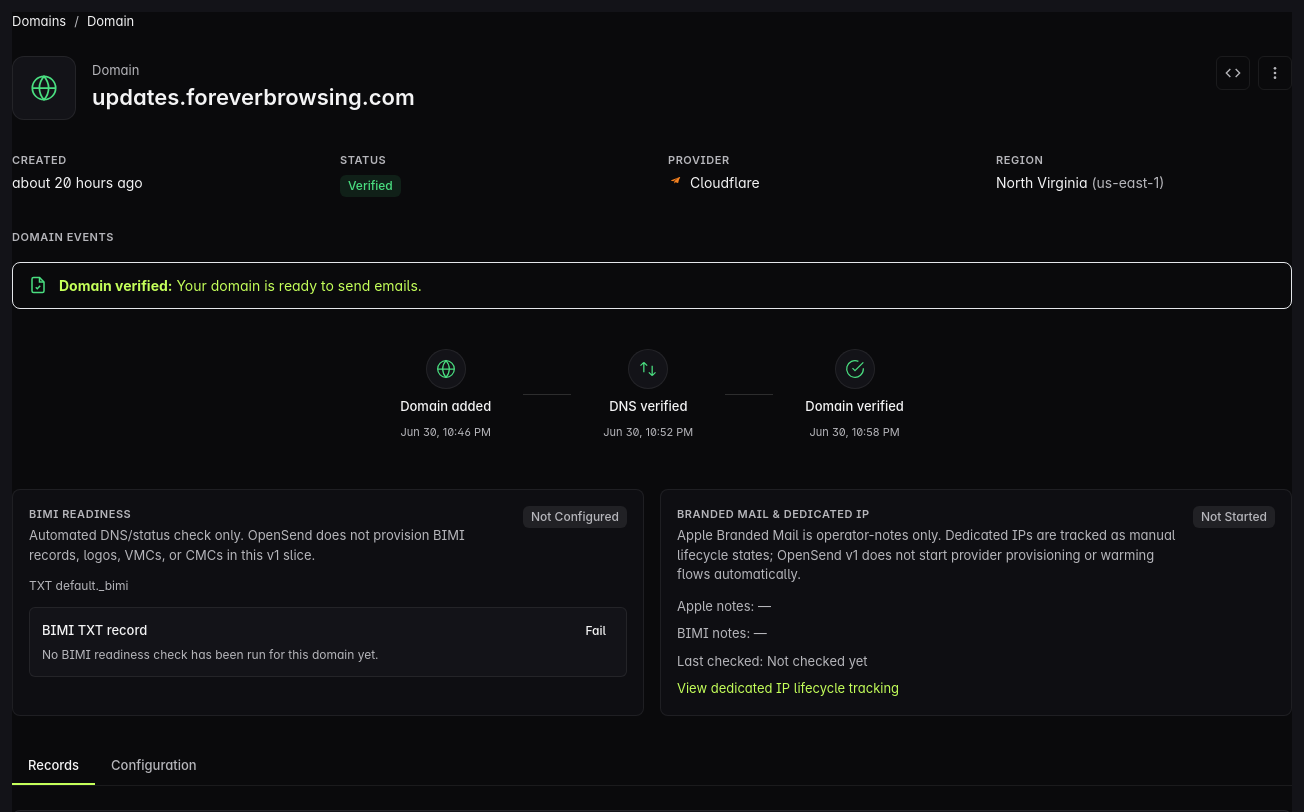
Test: DomainDetail › renders more actions dropdown with options
Click the button named "More actions": (1275, 72) 1258,56 -> 1292,90
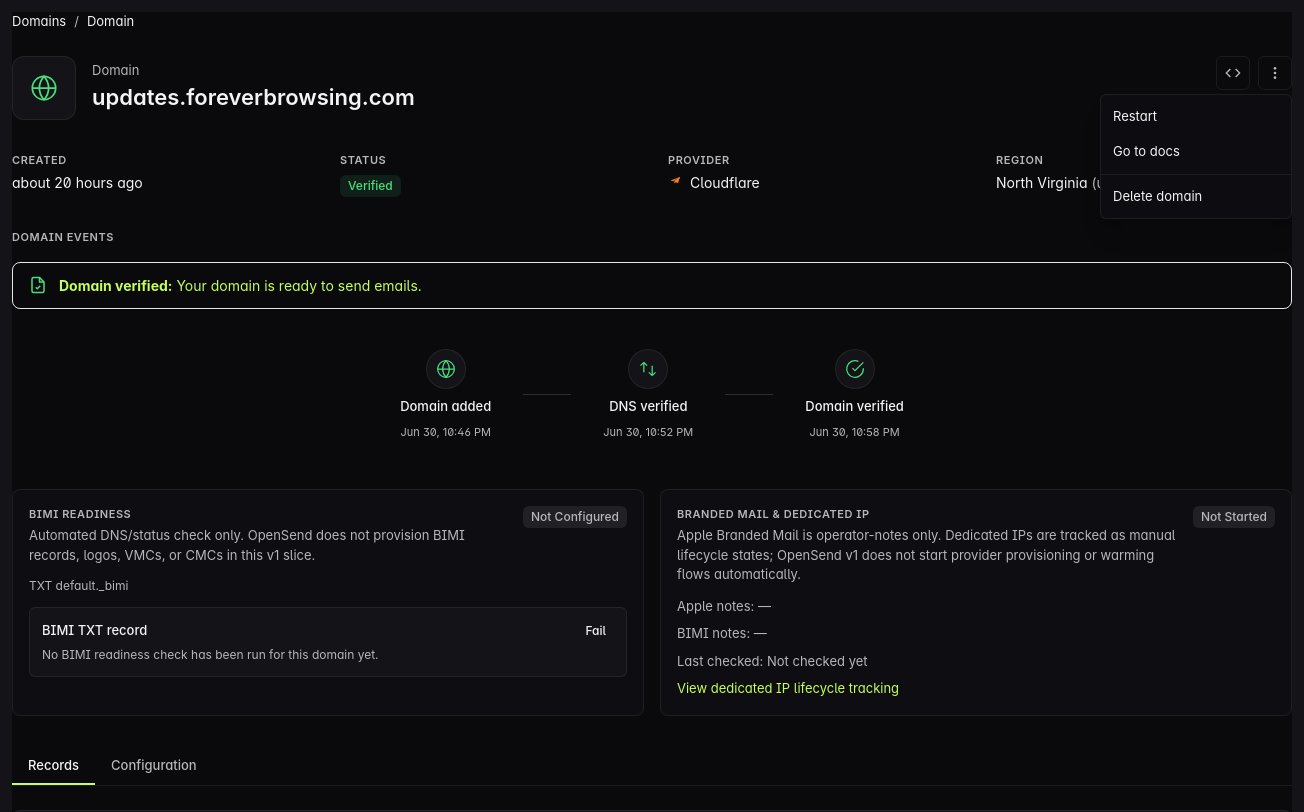
Expected: the button "Restart" is shown, 1101,98 -> 1291,134
Expected: the link "Go to docs" is shown, 1113,143 -> 1180,159
Expected: the button "Delete domain" is shown, 1101,178 -> 1291,214
